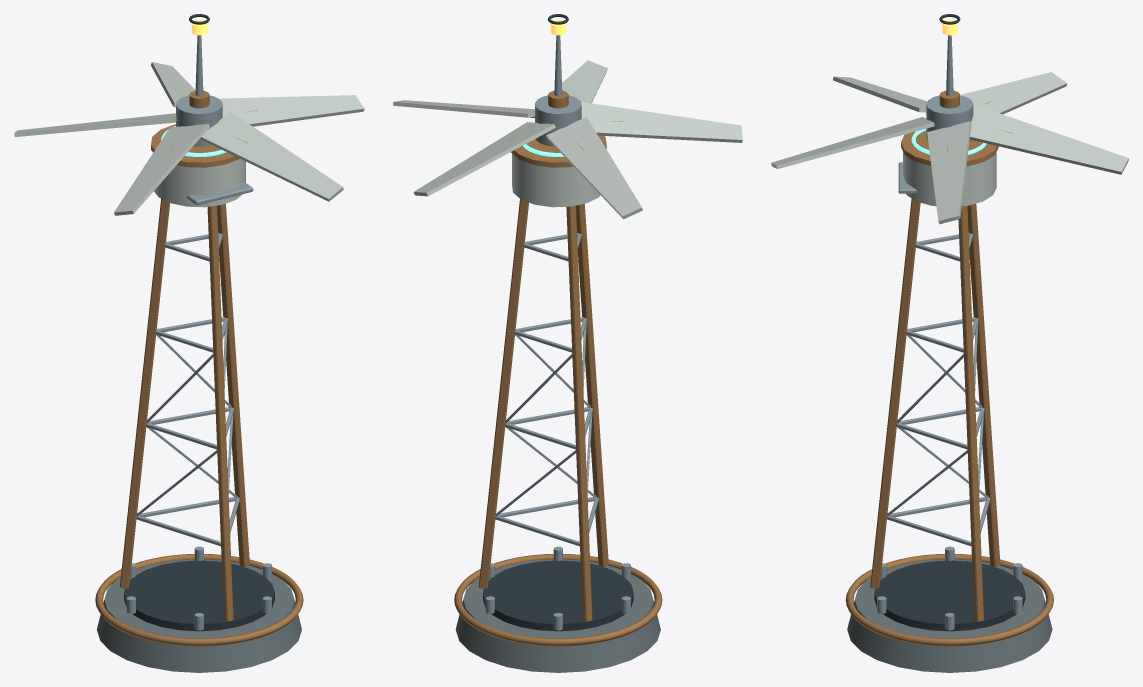
File: tidal-turbine.lod0.glb
3 renders of one model, left to right at view 1: azimuth 30°, elevation 25°; view 2: azimuth 150°, elevation 25°; view 3: azimuth 270°, elevation 25°, orthographic.
Parts seen in each view (by area): view 1: structure, turbine_rotor; view 2: structure, turbine_rotor; view 3: structure, turbine_rotor.
Boxes of the visible parts, x1=… form: structure: x1=95, y1=14, x2=303, y2=672; turbine_rotor: x1=14, y1=62, x2=364, y2=215; structure: x1=454, y1=14, x2=662, y2=672; turbine_rotor: x1=393, y1=60, x2=742, y2=219; structure: x1=845, y1=14, x2=1053, y2=672; turbine_rotor: x1=771, y1=72, x2=1128, y2=224.
Size of the model in its own units: 11.3 by 22.34 by 11.85.
